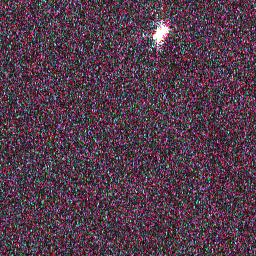ship: (150, 22, 171, 43)
